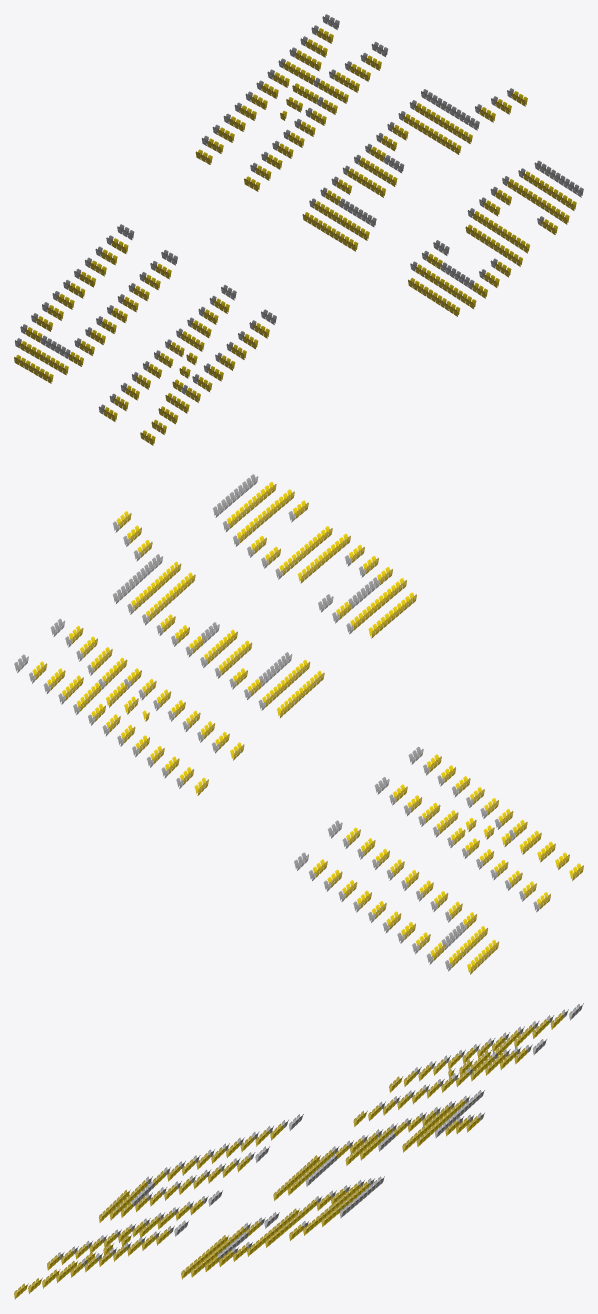
The model's file is bluechairs3justtext.obj.
3 renders of one model, top to bottom at view 1: azimuth 30°, elevation 25°; view 2: azimuth 150°, elevation 25°; view 3: azimuth 330°, elevation 25°, orthographic. The views are drawn at different scales.
Parts seen in each view (by area): view 1: sedie2anello188, sedie2anello219, sedie2anello217, sedie2anello172, sedie2anello171; view 2: sedie2anello217, sedie2anello219, sedie2anello188, sedie2anello171, sedie2anello172; view 3: sedie2anello188, sedie2anello217, sedie2anello219, sedie2anello172, sedie2anello171.
Part boxes in pixels (x1,y1,x2,y2): sedie2anello188: (195, 14, 388, 191); sedie2anello219: (302, 88, 527, 251); sedie2anello217: (408, 160, 583, 316); sedie2anello172: (14, 224, 177, 383); sedie2anello171: (98, 285, 276, 445); sedie2anello217: (212, 474, 416, 638); sedie2anello219: (112, 511, 324, 717); sedie2anello188: (14, 618, 244, 795); sedie2anello171: (374, 746, 583, 912); sedie2anello172: (294, 820, 498, 974); sedie2anello188: (353, 1003, 583, 1126); sedie2anello217: (181, 1176, 384, 1279); sedie2anello219: (273, 1090, 484, 1200); sedie2anello172: (99, 1114, 303, 1222); sedie2anello171: (14, 1190, 222, 1299).
Bounding box in the file's own units: 28.02 × 15.6 × 29.44.
Materials: 4 (2 with a texture image).
